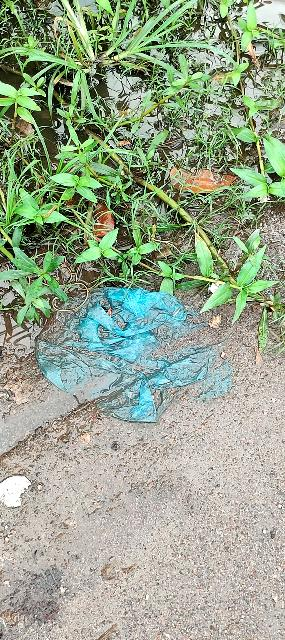polythene: (27, 265, 256, 427)
